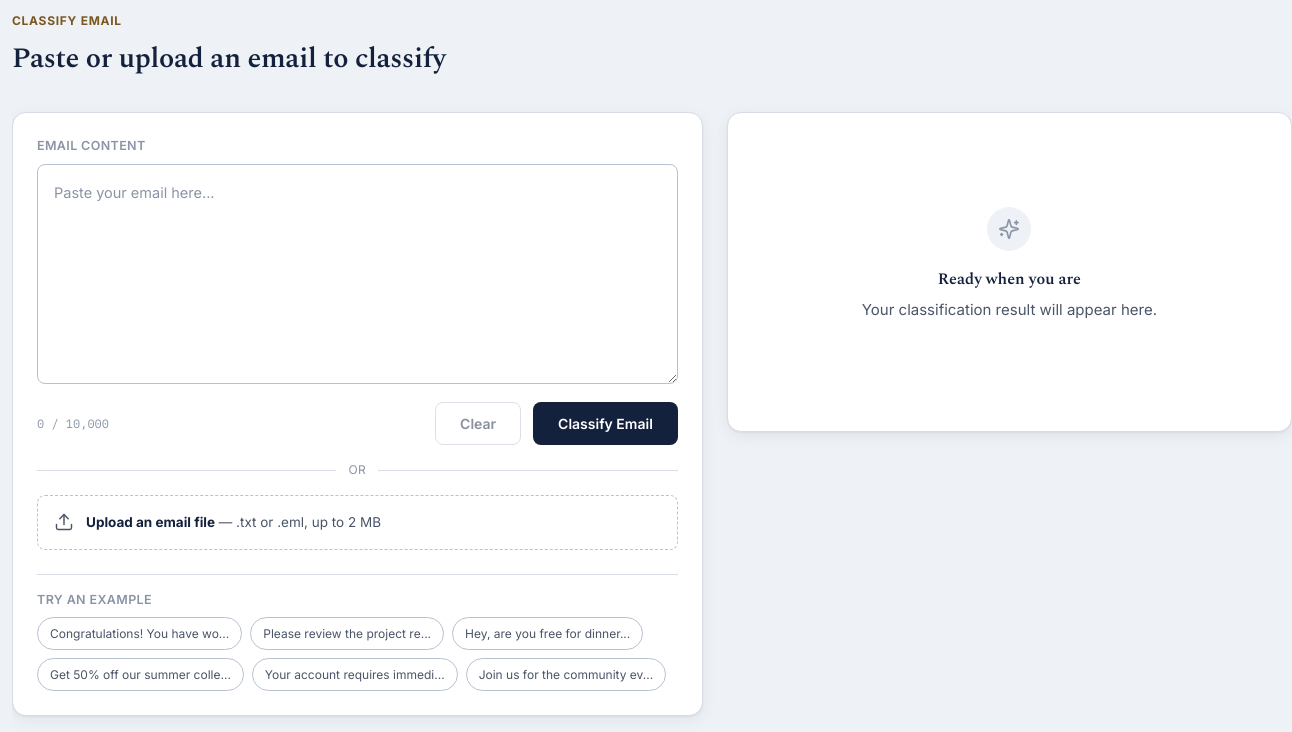
Test: ClassifyEmail › shows the low-confidence warning when the backend flags is_low_confidence
Type "Ambiguous text between categories" into the text box labelled "Email content" at (357, 274), box [37,164,678,384]
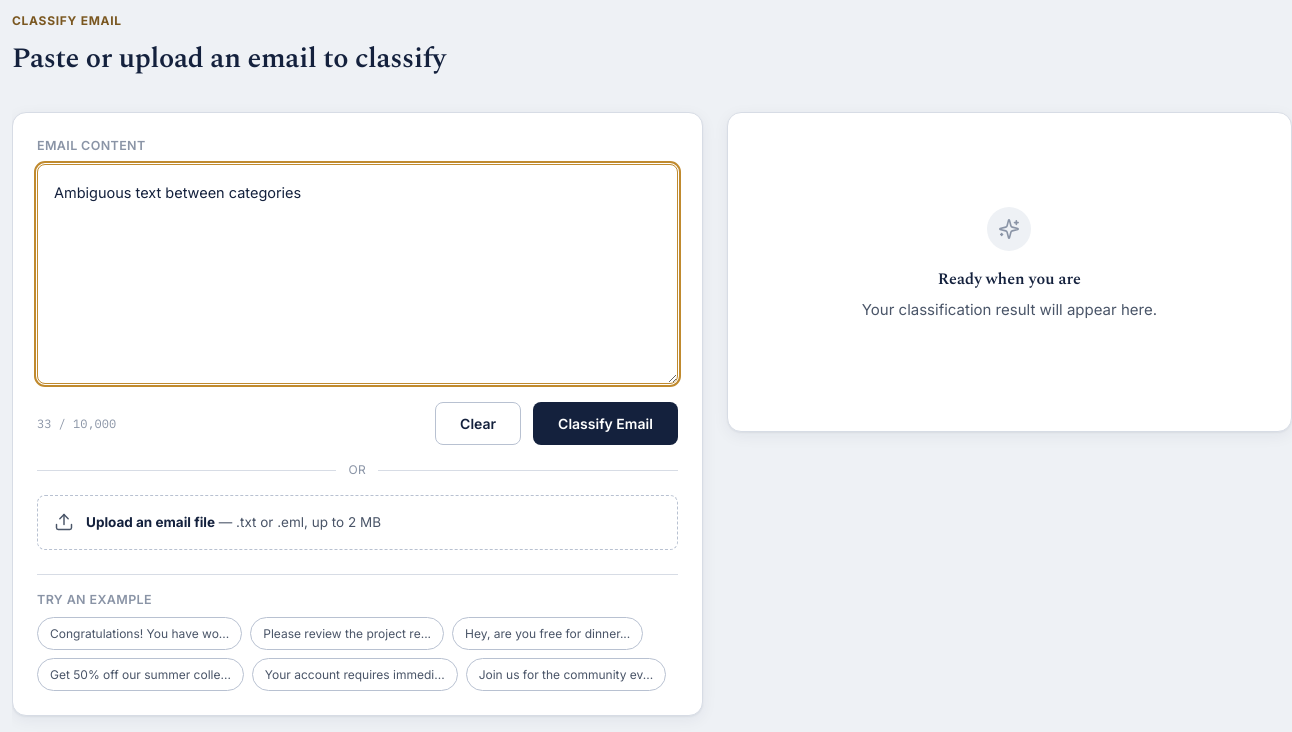
Click the button "Classify Email" at (605, 424), box [533,402,678,445]
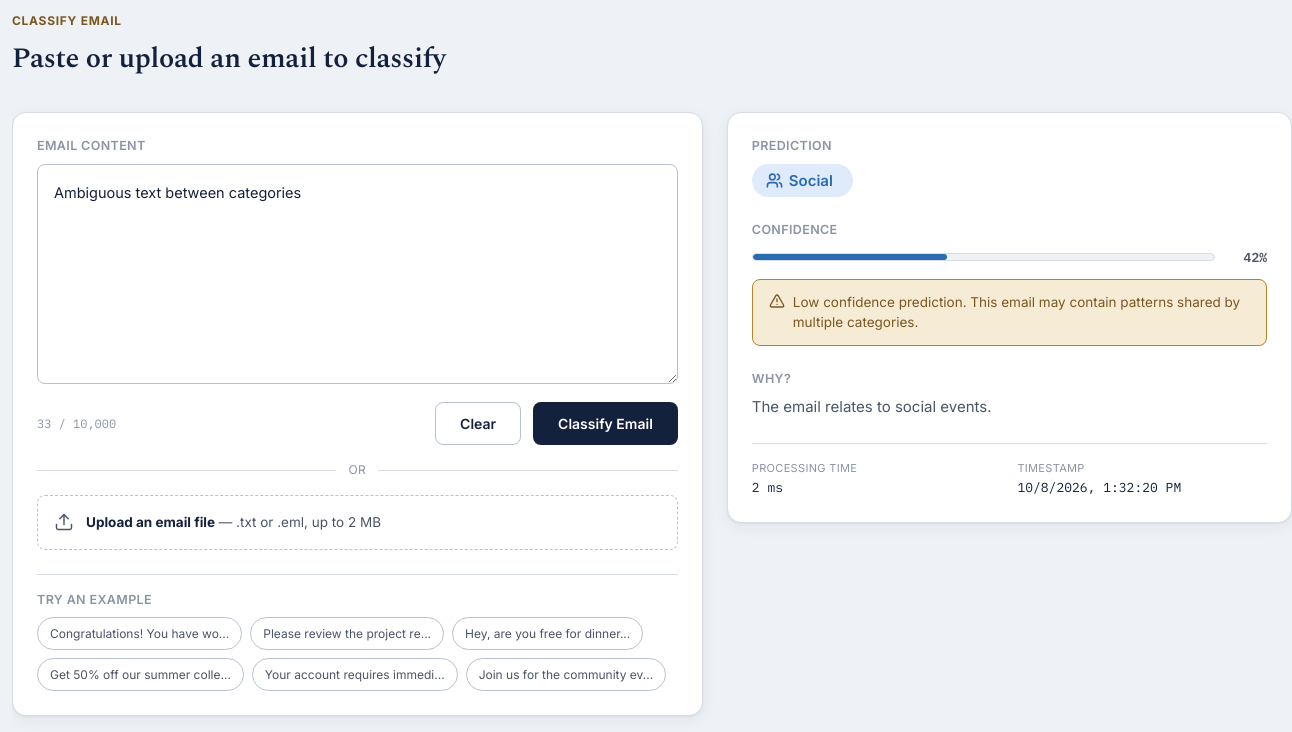
Check: the text "Low confidence prediction" is shown, box [793,294,1240,330]
